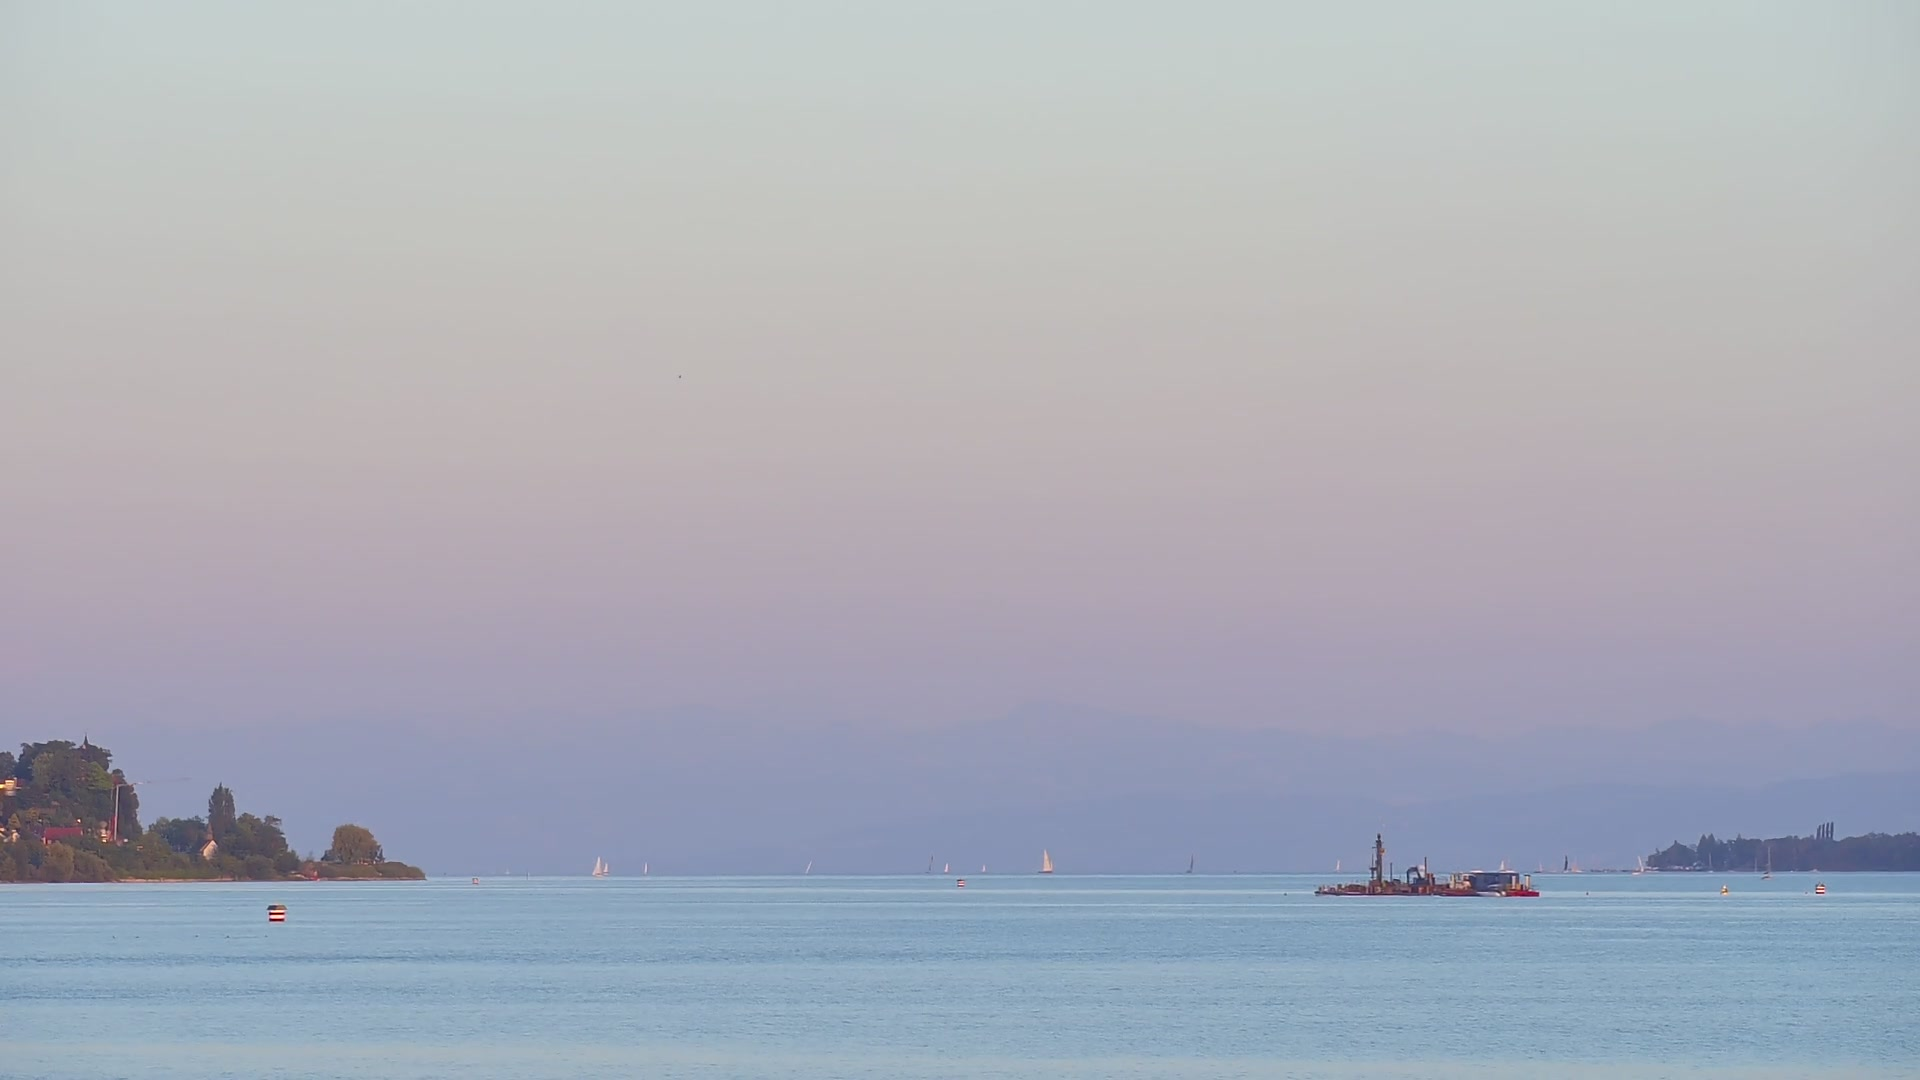sea: (1036, 845, 1054, 873), (1759, 845, 1772, 880), (1629, 855, 1644, 876), (589, 855, 603, 878), (1559, 853, 1569, 874), (1184, 853, 1193, 874), (1706, 851, 1714, 873), (803, 858, 812, 876), (926, 855, 934, 873), (601, 860, 609, 876), (942, 860, 949, 874), (1534, 862, 1543, 874), (980, 862, 986, 874), (642, 861, 647, 876)
